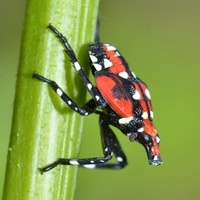insect: (32, 24, 161, 172)
